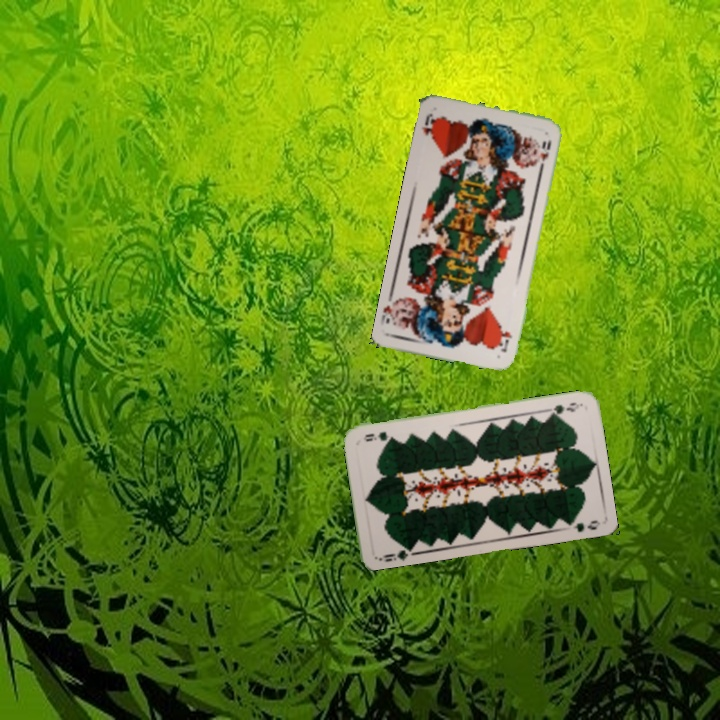G9: (375, 541, 415, 564), (543, 398, 584, 418)
HO: (418, 109, 439, 142), (496, 327, 515, 355)
